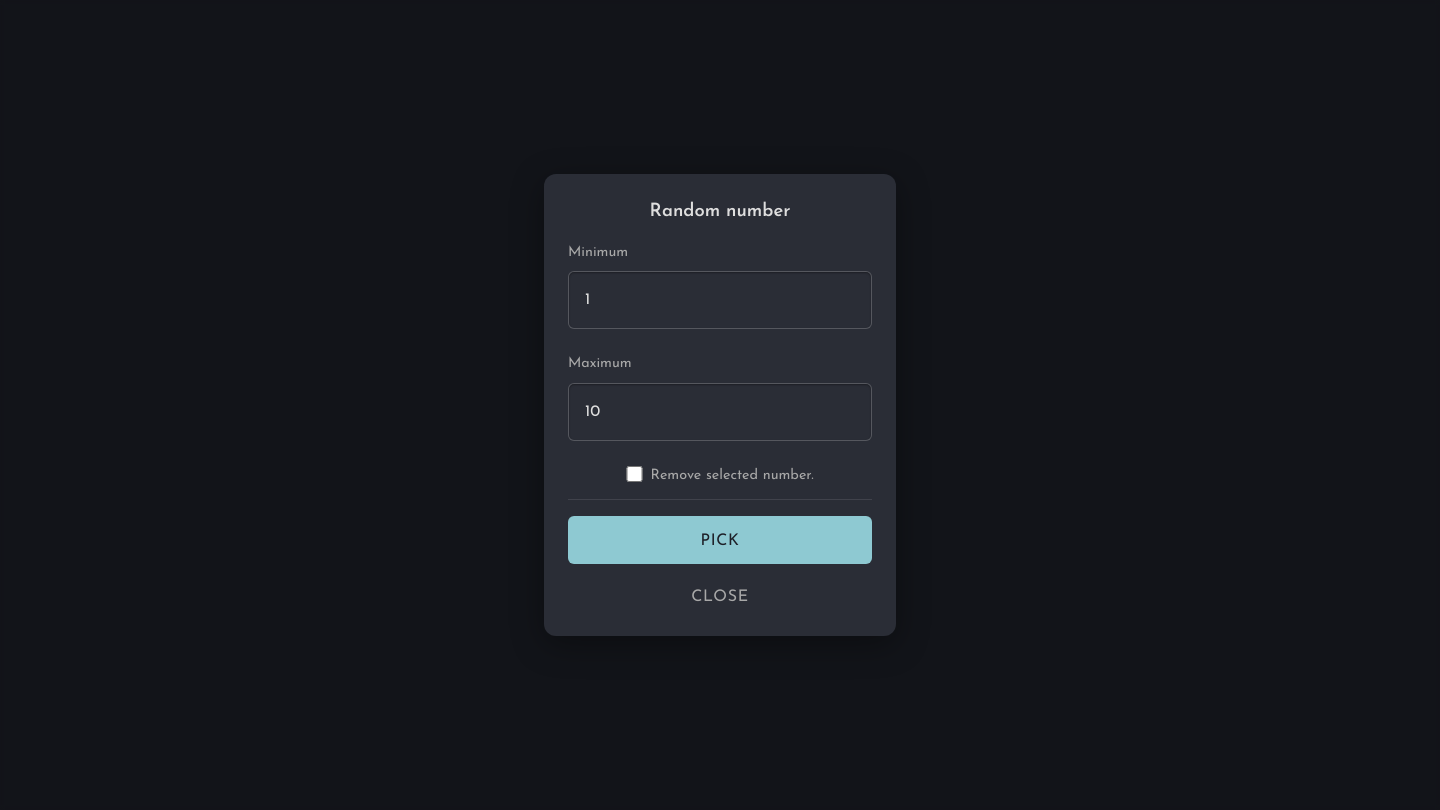
Test case: Random number range dialog › Shows an error when inputs are not valid whole numbers.
The width and height of the screenshot is (1440, 810).
Clear the number field labelled "Minimum": (720, 300) [568,271,872,329]
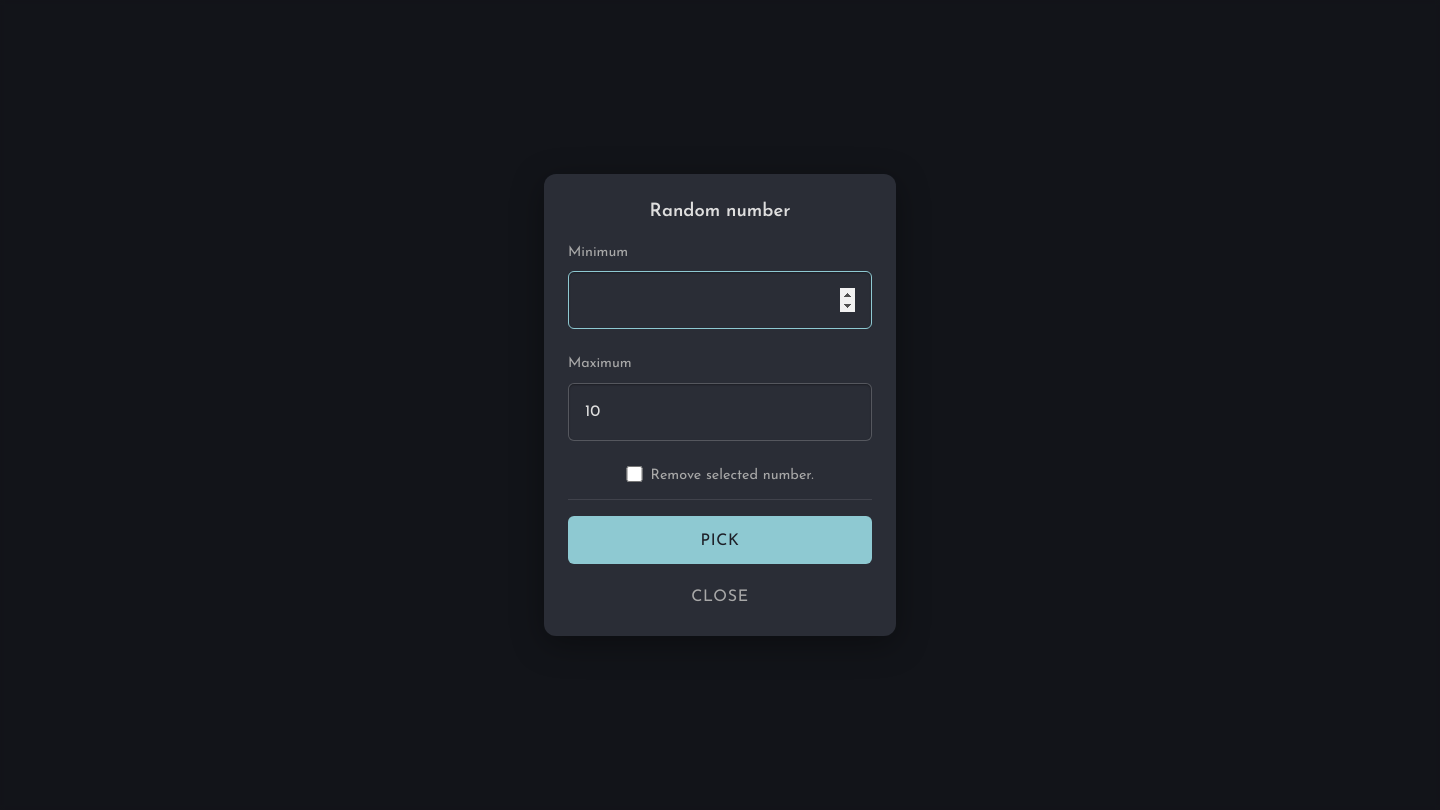
Clear the number field labelled "Maximum": (720, 412) [568,383,872,441]
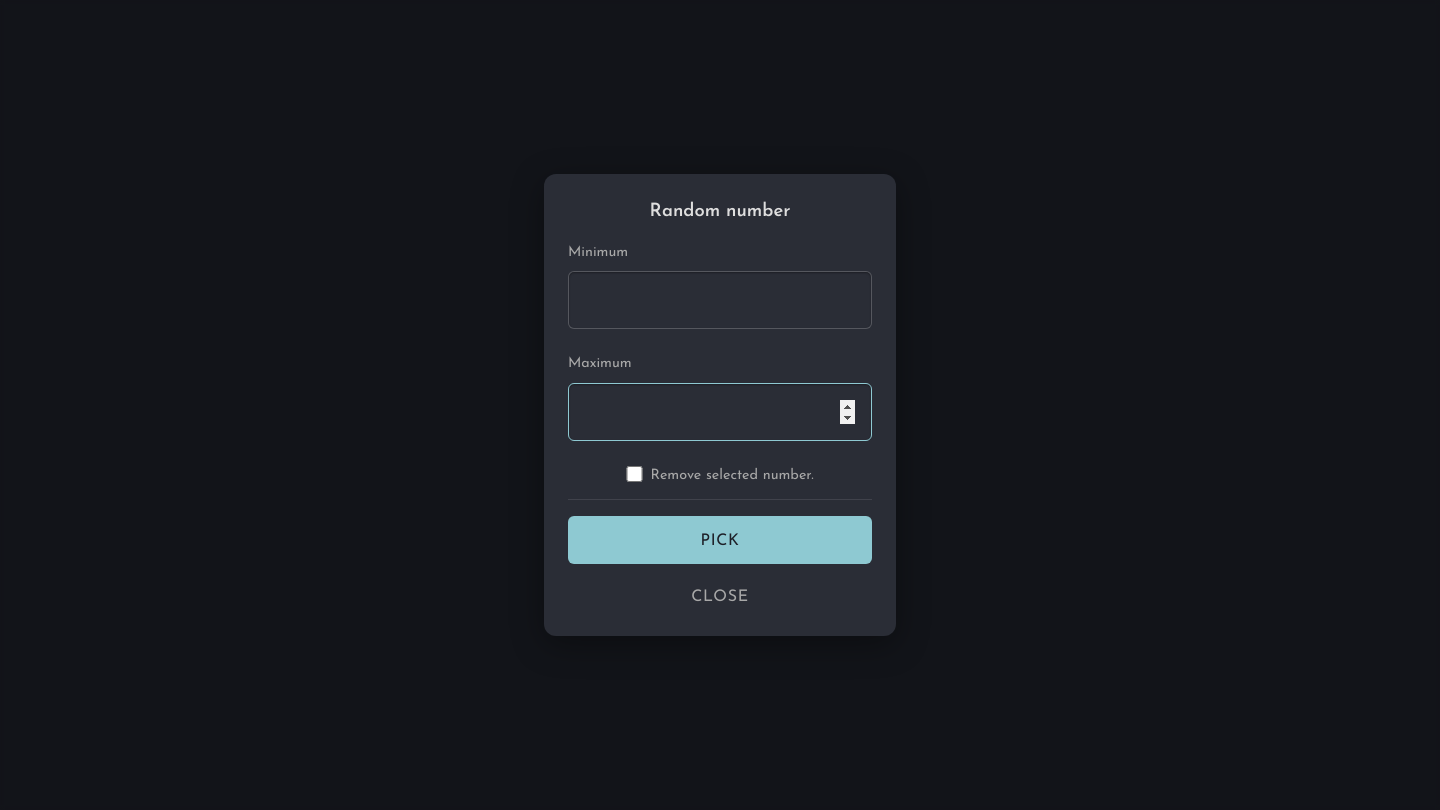
Click the button "Pick": (720, 540) [568,516,872,564]
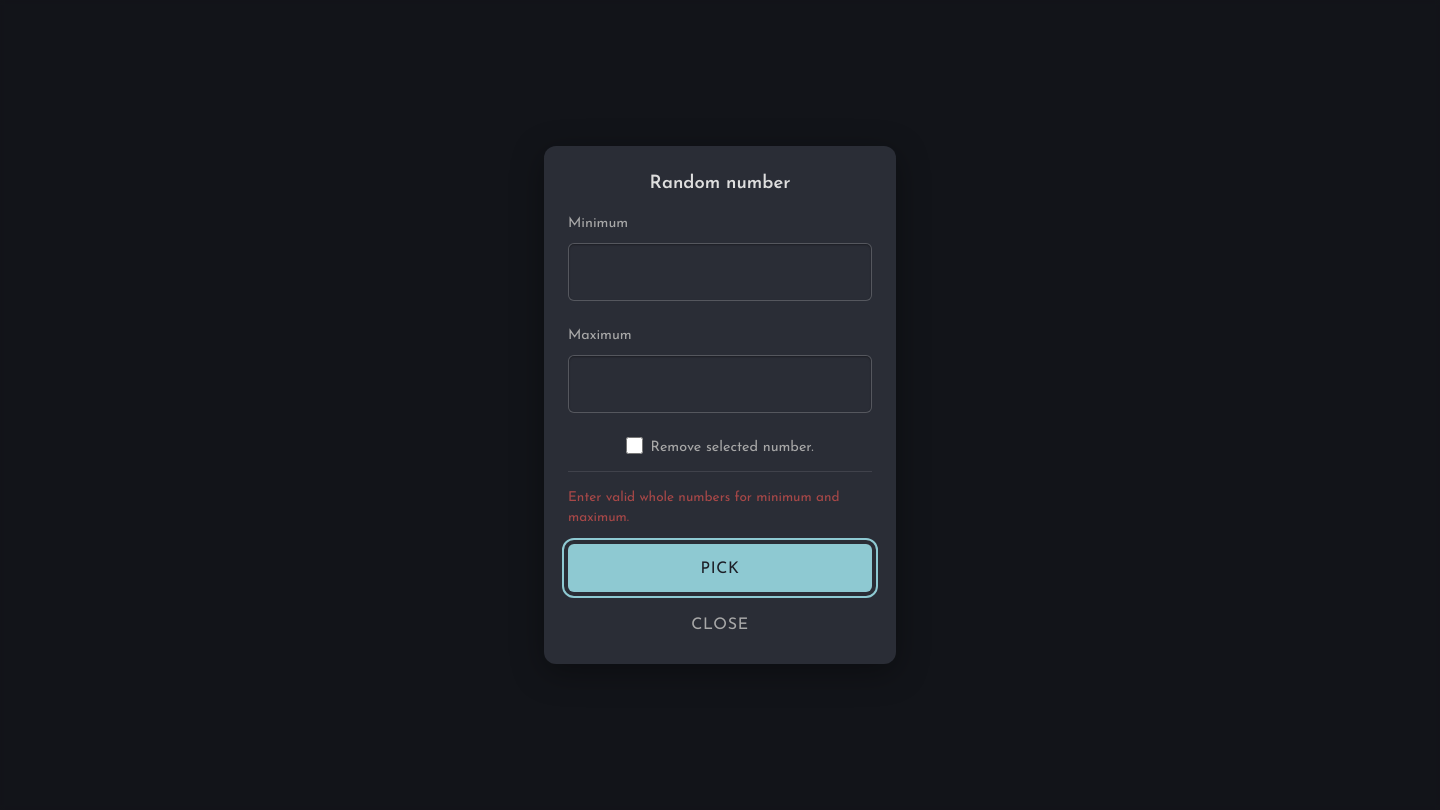
expect the message shows "Enter valid whole numbers": met, box [568,490,840,524]
